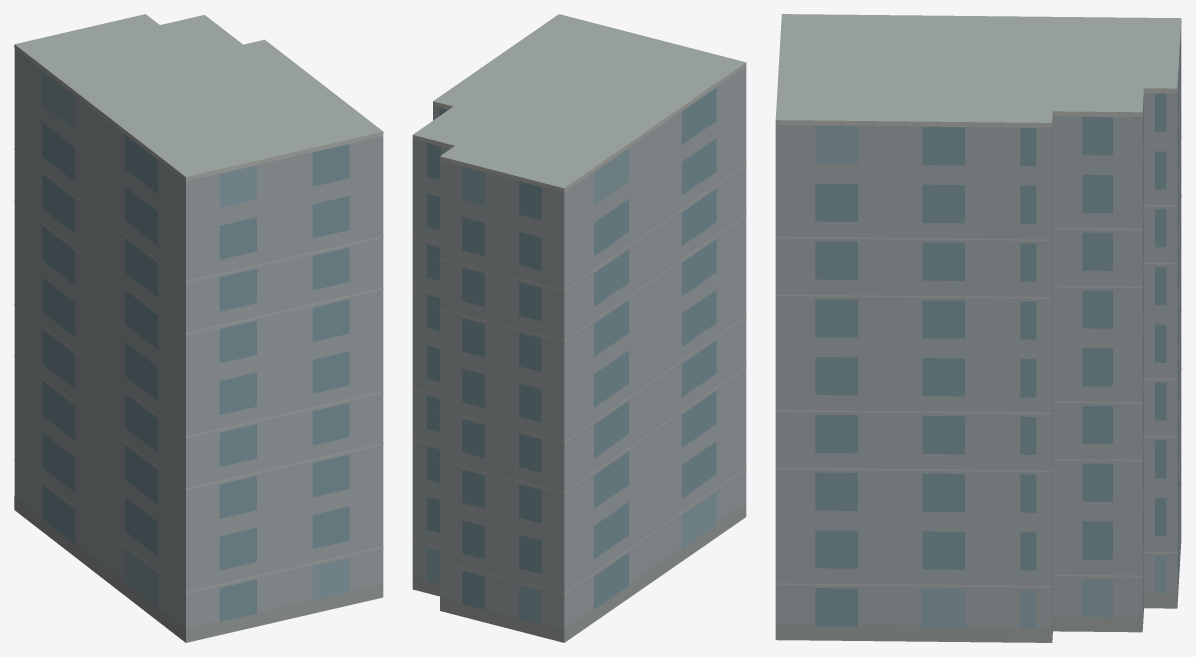
Rendered from residential-da527f08-9da4-444c-bfb0-4dc593ec59f0.glb.
The picture shows the model from 3 angles, left to right: view 1: azimuth 30°, elevation 25°; view 2: azimuth 150°, elevation 25°; view 3: azimuth 270°, elevation 25°; orthographic projection. The views are drawn at different scales.
Parts seen in each view (by area): view 1: residential-da527f08-9da4-444c-bfb0-4dc593ec59f0.tmp; view 2: residential-da527f08-9da4-444c-bfb0-4dc593ec59f0.tmp; view 3: residential-da527f08-9da4-444c-bfb0-4dc593ec59f0.tmp.
Boxes of the visible parts, <box> form: residential-da527f08-9da4-444c-bfb0-4dc593ec59f0.tmp: <box>14,14,383,642</box>; residential-da527f08-9da4-444c-bfb0-4dc593ec59f0.tmp: <box>412,14,746,642</box>; residential-da527f08-9da4-444c-bfb0-4dc593ec59f0.tmp: <box>775,14,1181,642</box>.
Bounding box in the file's own units: 12.16 × 27 × 19.12.
